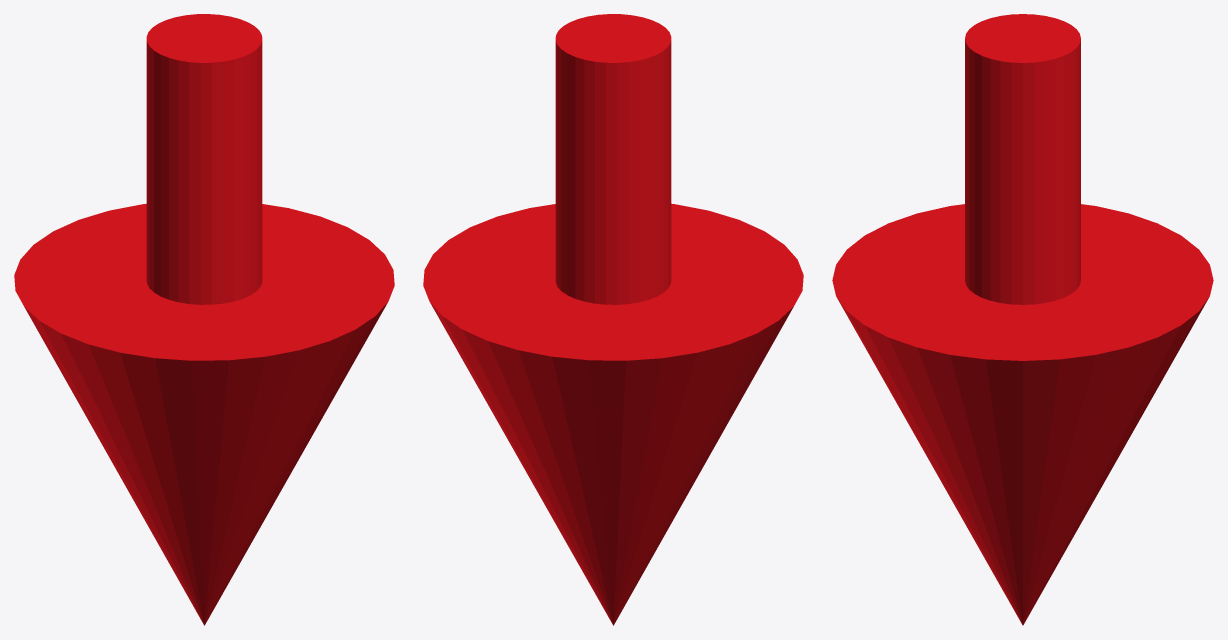
Rendered from arrow.glb.
3 views of the same model, side by side, from view 1: azimuth 30°, elevation 25°; view 2: azimuth 150°, elevation 25°; view 3: azimuth 270°, elevation 25° (orthographic).
Visible parts, largest first — view 1: Cone; view 2: Cone; view 3: Cone.
Part boxes in pixels (<box>): Cone: <box>14,14,394,625</box>; Cone: <box>423,14,803,625</box>; Cone: <box>832,14,1213,625</box>.
Size of the model in its own units: 2 by 3.4 by 2.
